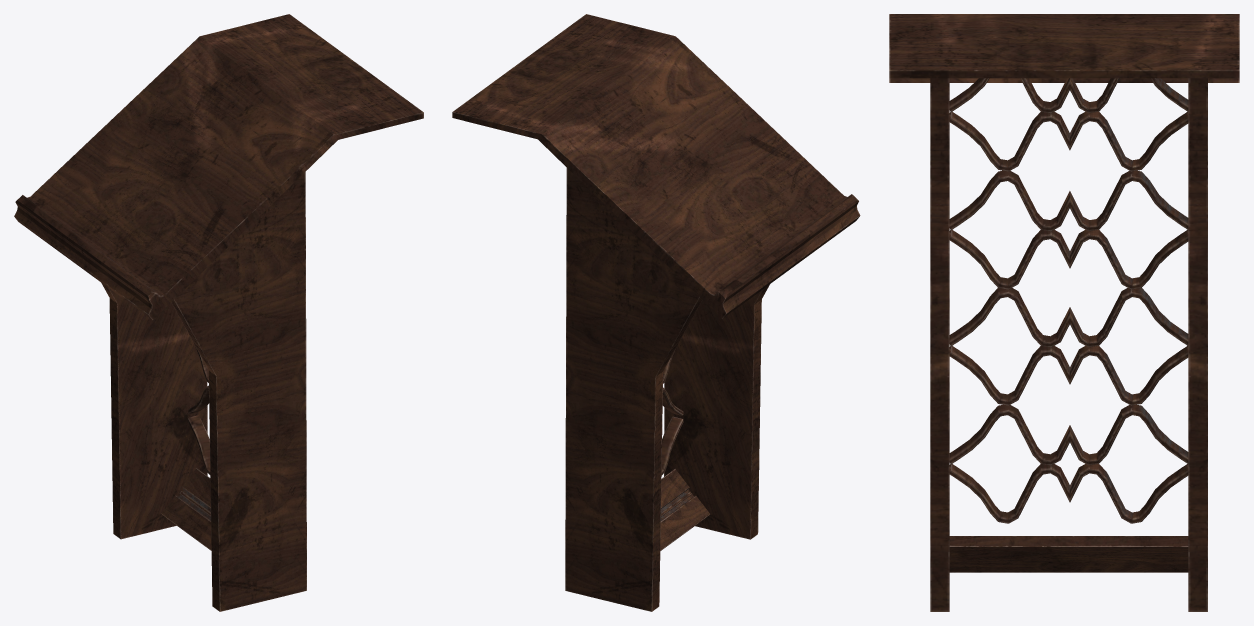
The model's file is SM_StudyNoteTable.fbx.
3 renders of one model, left to right at view 1: azimuth 30°, elevation 25°; view 2: azimuth 150°, elevation 25°; view 3: azimuth 270°, elevation 25°, orthographic. The views are drawn at different scales.
Parts seen in each view (by area): view 1: SM_StudyNoteTable_LOD0; view 2: SM_StudyNoteTable_LOD0; view 3: SM_StudyNoteTable_LOD0.
Boxes of the visible parts, left/top/right/bottom form: SM_StudyNoteTable_LOD0: left=14, top=14, right=423, bottom=611; SM_StudyNoteTable_LOD0: left=452, top=14, right=860, bottom=611; SM_StudyNoteTable_LOD0: left=889, top=14, right=1239, bottom=611.
Size of the model in its own units: 104 by 87.63 by 167.
1 material, 1 textured.
